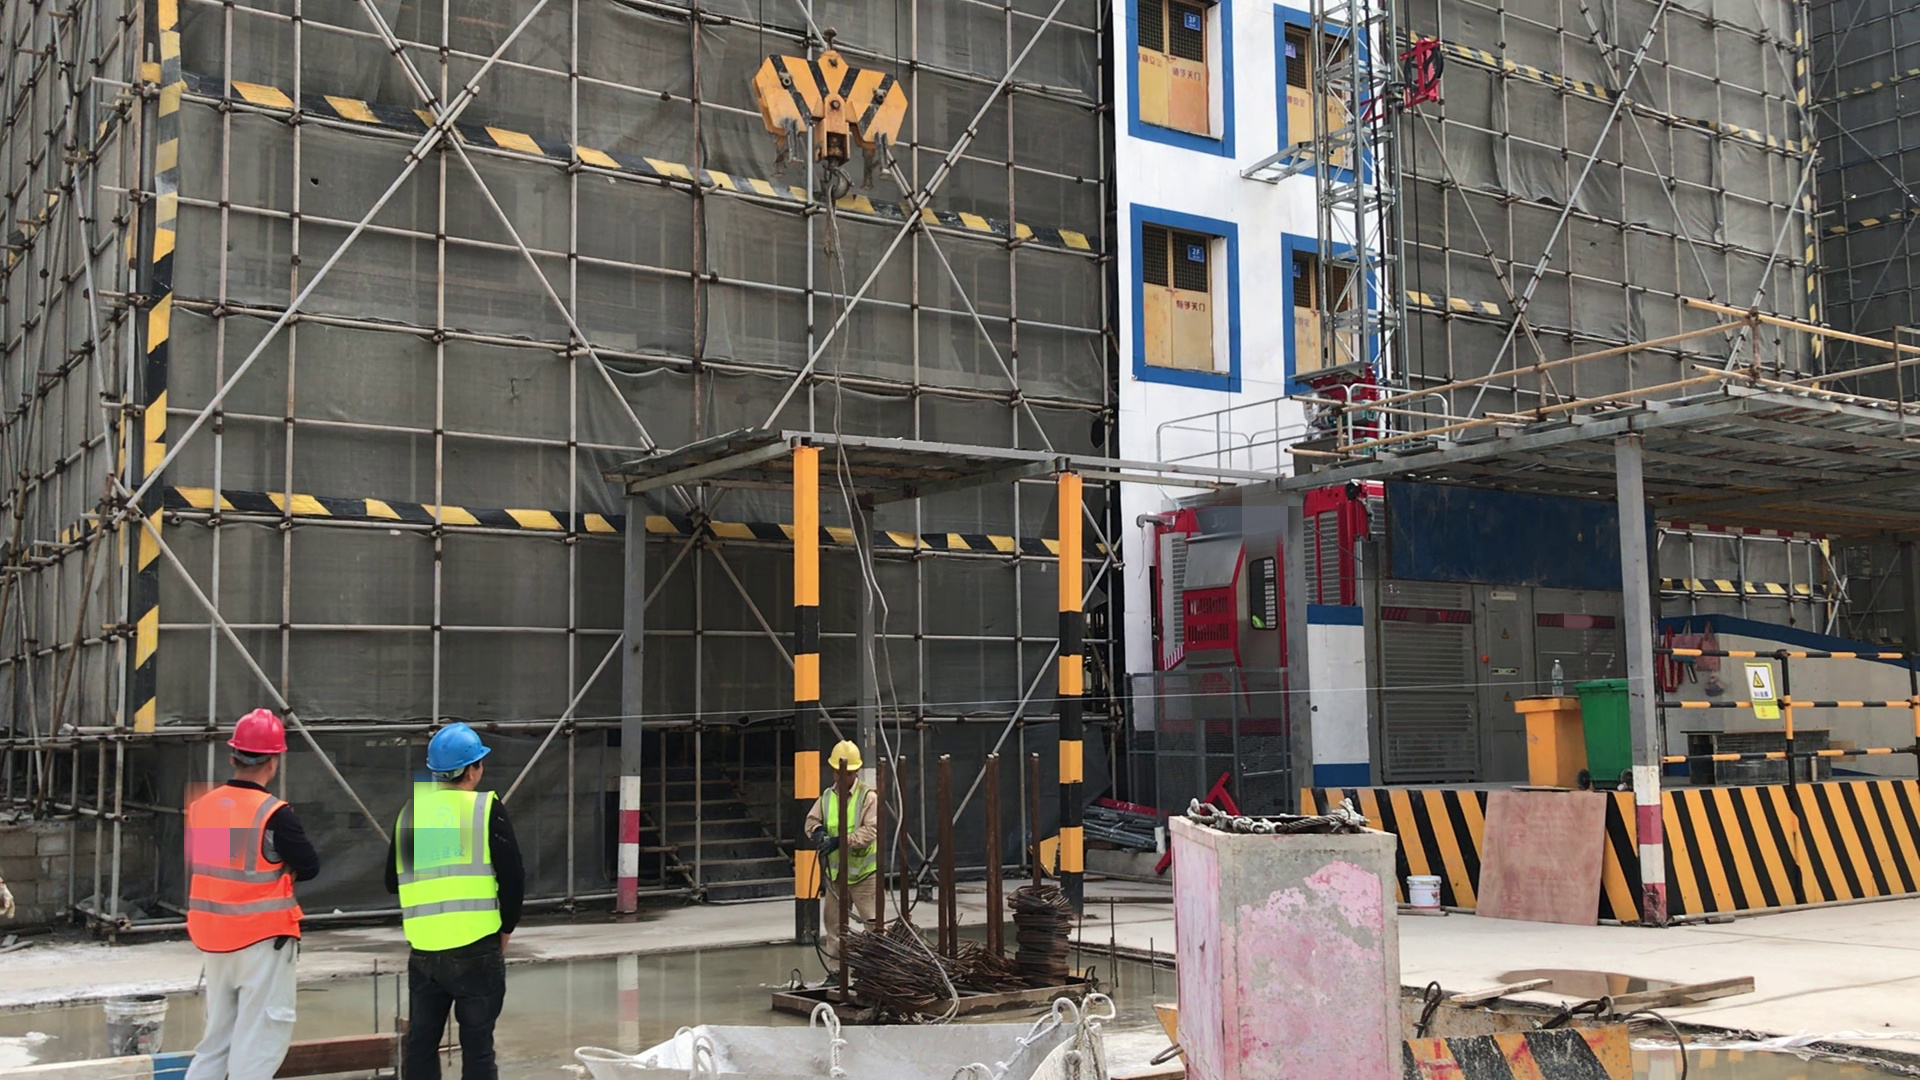helmet: (226, 703, 288, 754), (431, 723, 491, 773), (826, 740, 861, 776)
hook: (749, 48, 907, 200)
hopper: (580, 1017, 1101, 1080)
person: (180, 702, 321, 1080), (389, 722, 529, 1080), (792, 741, 900, 982)
slogan: (1743, 660, 1780, 729)
vest: (184, 783, 309, 949), (402, 784, 504, 956), (817, 782, 876, 883)
